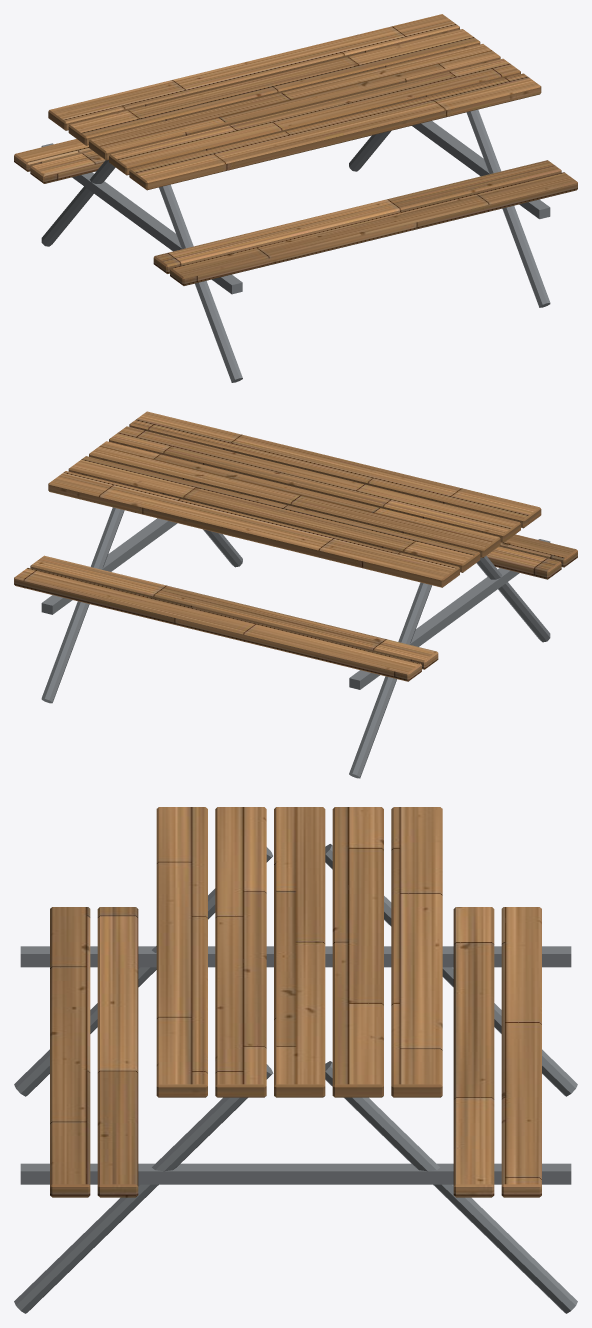
The model's file is picnic_table.glb.
3 renders of one model, top to bottom at view 1: azimuth 30°, elevation 25°; view 2: azimuth 150°, elevation 25°; view 3: azimuth 270°, elevation 25°, orthographic. The views are drawn at different scales.
Visible parts, largest first — view 1: picnic_table_bench_w, picnic_table_steel_d; view 2: picnic_table_bench_w, picnic_table_steel_d; view 3: picnic_table_bench_w, picnic_table_steel_d.
Part boxes in pixels (<box>): picnic_table_bench_w: <box>14,14,577,285</box>; picnic_table_steel_d: <box>41,109,550,382</box>; picnic_table_bench_w: <box>14,411,577,681</box>; picnic_table_steel_d: <box>41,507,550,778</box>; picnic_table_bench_w: <box>50,807,541,1197</box>; picnic_table_steel_d: <box>14,844,577,1313</box>.
Bounding box in the file's own units: 1.8 × 0.777 × 1.54.
2 materials, 1 textured.
